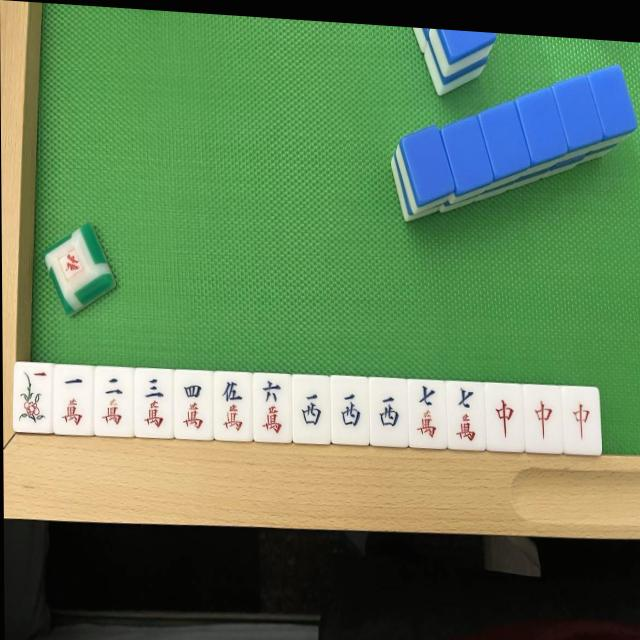1C: (54, 366, 93, 437)
1S: (14, 363, 52, 433)
2C: (95, 366, 135, 438)
3C: (135, 369, 174, 440)
4C: (174, 370, 213, 441)
5C: (214, 373, 252, 443)
6C: (255, 375, 293, 444)
7C: (408, 381, 447, 450), (447, 381, 485, 450)
RD: (562, 385, 599, 453), (486, 382, 523, 450), (525, 384, 561, 450)
WW: (293, 376, 332, 446), (370, 378, 408, 447), (333, 376, 370, 446)
